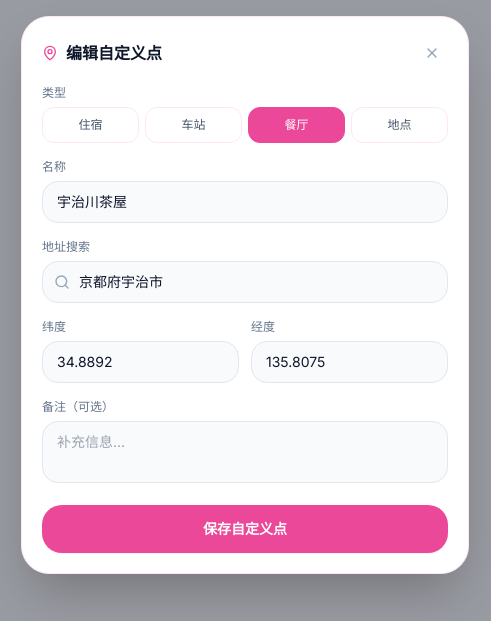
PlaceEditorDialog › 搜索只在用户输入时触发：编辑初始化/选中结果都不触发，请求带 near
用户输入触发搜索，且带上当前表单坐标作 near
Replace the text in the field labelled "地址搜索" with "东京塔": (245, 282) top-left (42, 261), bottom-right (448, 303)
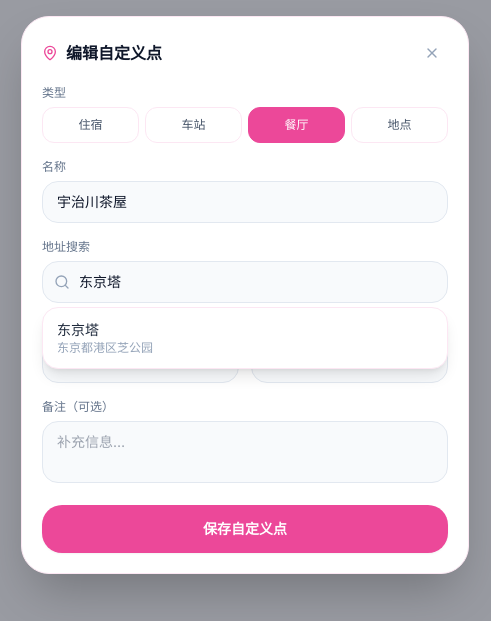
选中结果：地址回填但不再触发搜索
Click the text "东京塔": (78, 330) top-left (57, 321), bottom-right (99, 338)
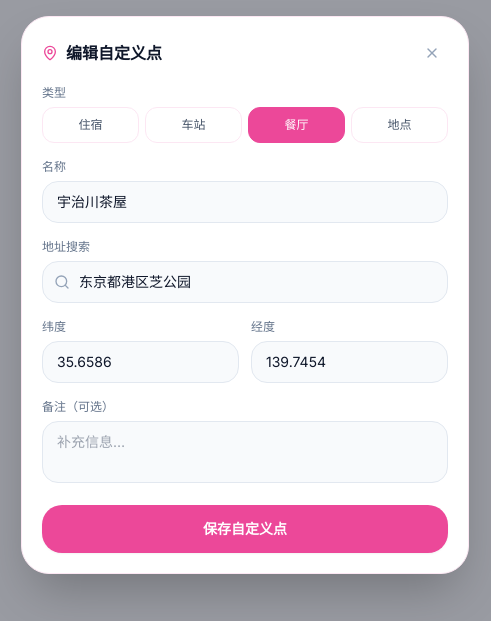
Expected: the field labelled "地址搜索" holds "东京都港区芝公园", top-left (42, 261), bottom-right (448, 303)
